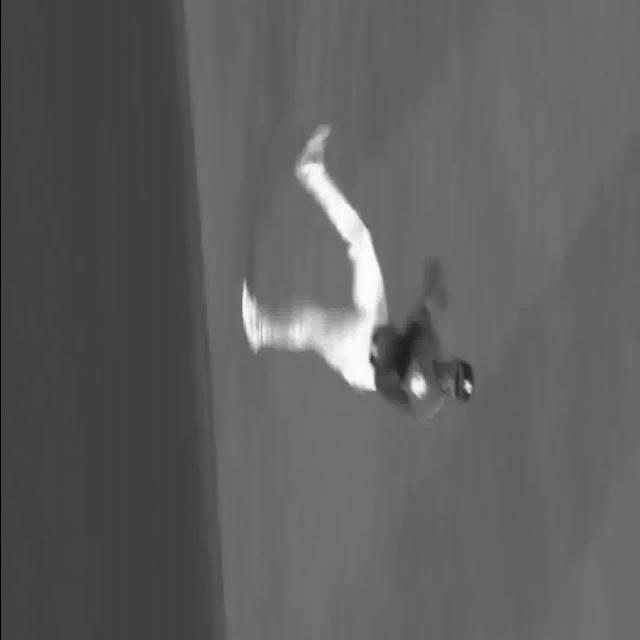baseball: (431, 263, 448, 297)
baseball_glove: (424, 256, 449, 312)
shoe: (294, 123, 330, 180), (240, 278, 260, 354)
